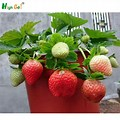Fresa: (48, 66, 78, 99), (80, 75, 108, 106), (21, 57, 44, 87)
